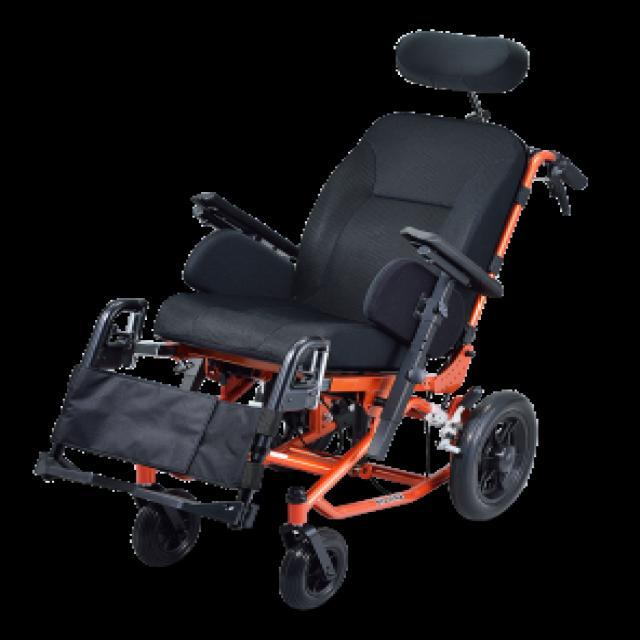wheelchair: (21, 20, 588, 609)
